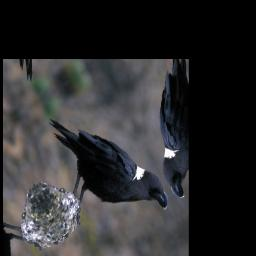Crow: (29, 79, 173, 256)
